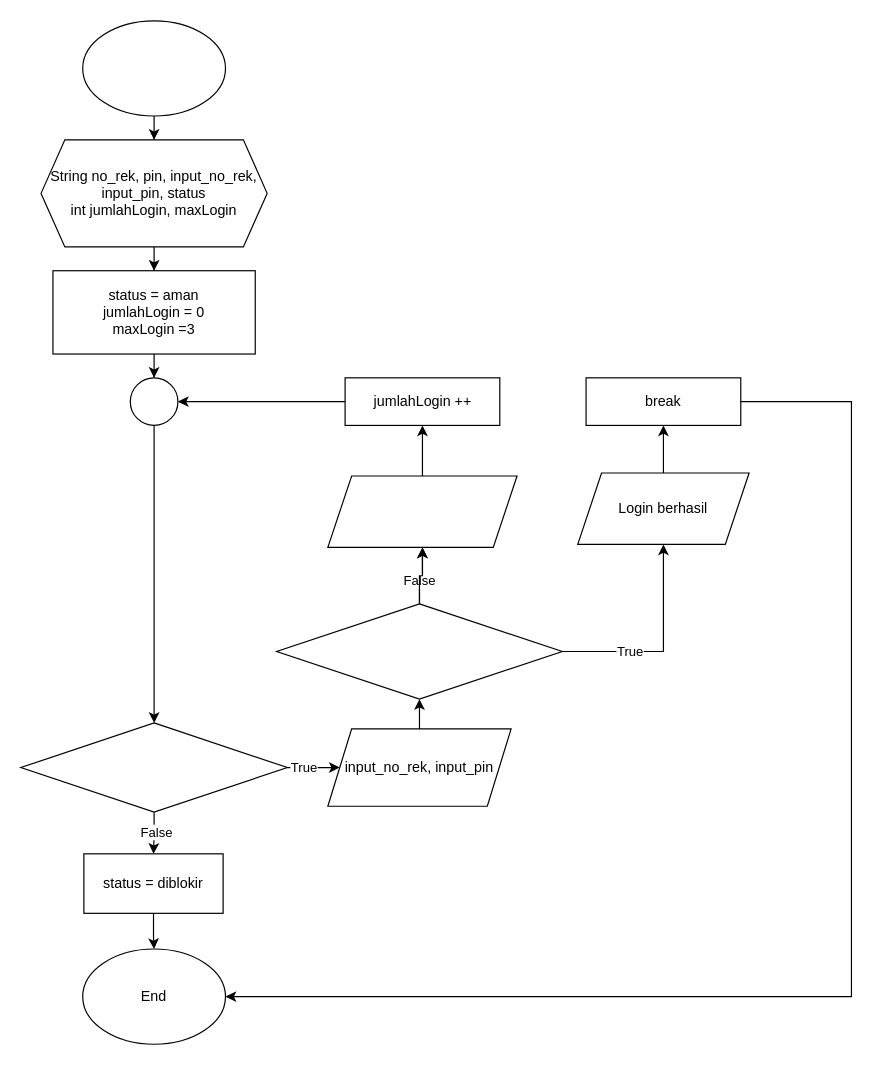
The diagram is 882 pixels wide and 1065 high, and some of its shapes have lost their labels. The centre of each missing label's shape, as x and y in pixels:
"Gagal login, cek nomor rekening dan pin anda" goes at (422,511).
"input_no_rek = no_rek & input_pin = pin" goes at (418,651).
"jumlahLogin <= maxLogin" goes at (153,767).
"Start" goes at (154,68).
